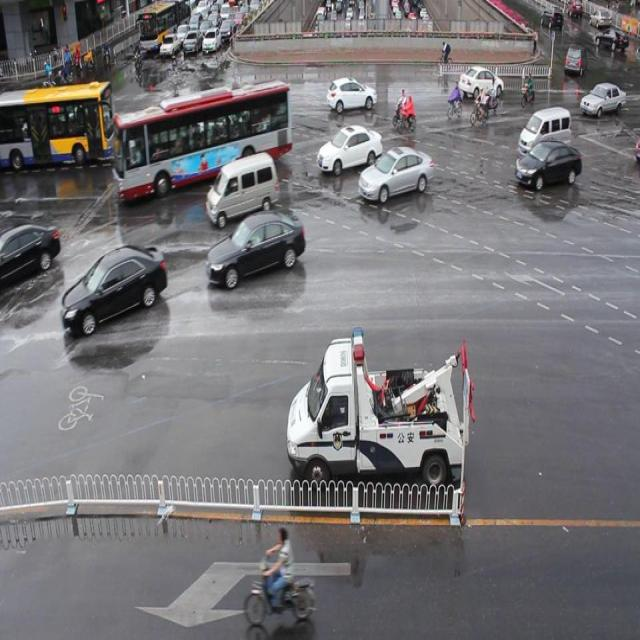bus: (286, 320, 475, 486)
car: (60, 244, 168, 334), (206, 213, 303, 290), (1, 222, 62, 296), (358, 148, 431, 208), (316, 120, 380, 174), (516, 140, 581, 187), (325, 73, 376, 114), (457, 64, 502, 102), (577, 81, 625, 116), (198, 100, 248, 132), (193, 94, 228, 120)
truck: (205, 149, 276, 223), (516, 108, 568, 154)
van: (115, 84, 289, 200), (1, 84, 115, 172)
